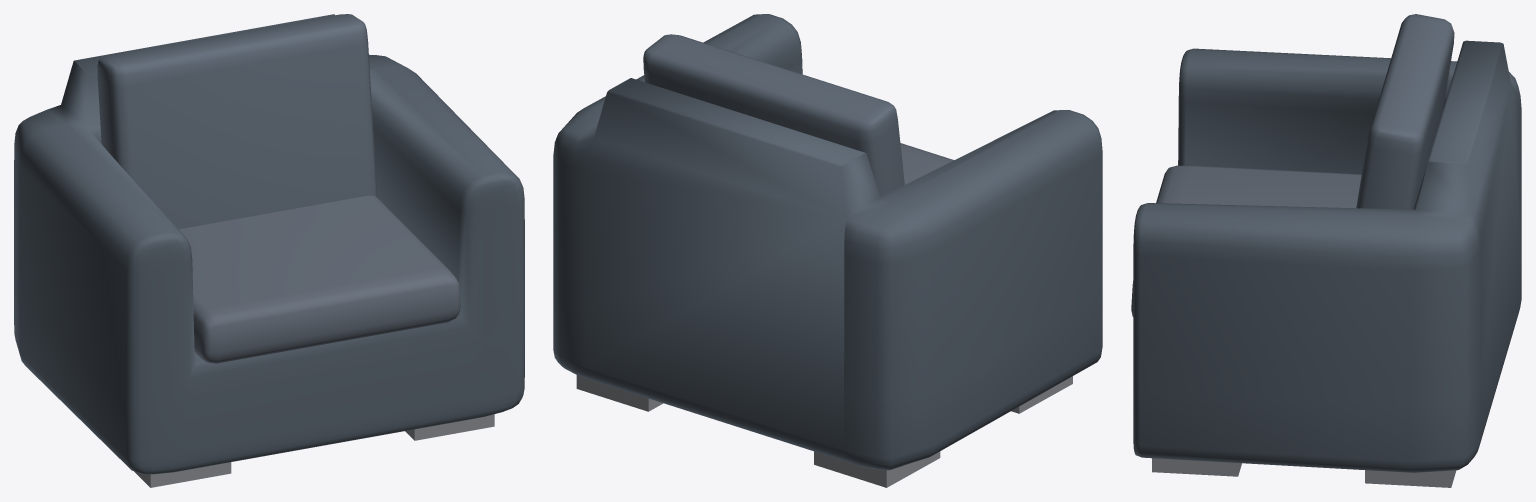
The model's file is singlesofa.fbx.
3 views of the same model, side by side, from view 1: azimuth 30°, elevation 25°; view 2: azimuth 150°, elevation 25°; view 3: azimuth 270°, elevation 25° (orthographic). The views are drawn at different scales.
Visible parts, largest first — view 1: sofa1; view 2: sofa1; view 3: sofa1.
Boxes of the visible parts, bbox=[...] form: sofa1: bbox=[14, 14, 524, 487]; sofa1: bbox=[553, 14, 1102, 487]; sofa1: bbox=[1131, 14, 1521, 487].
Size of the model in its own units: 161 by 125 by 133.
